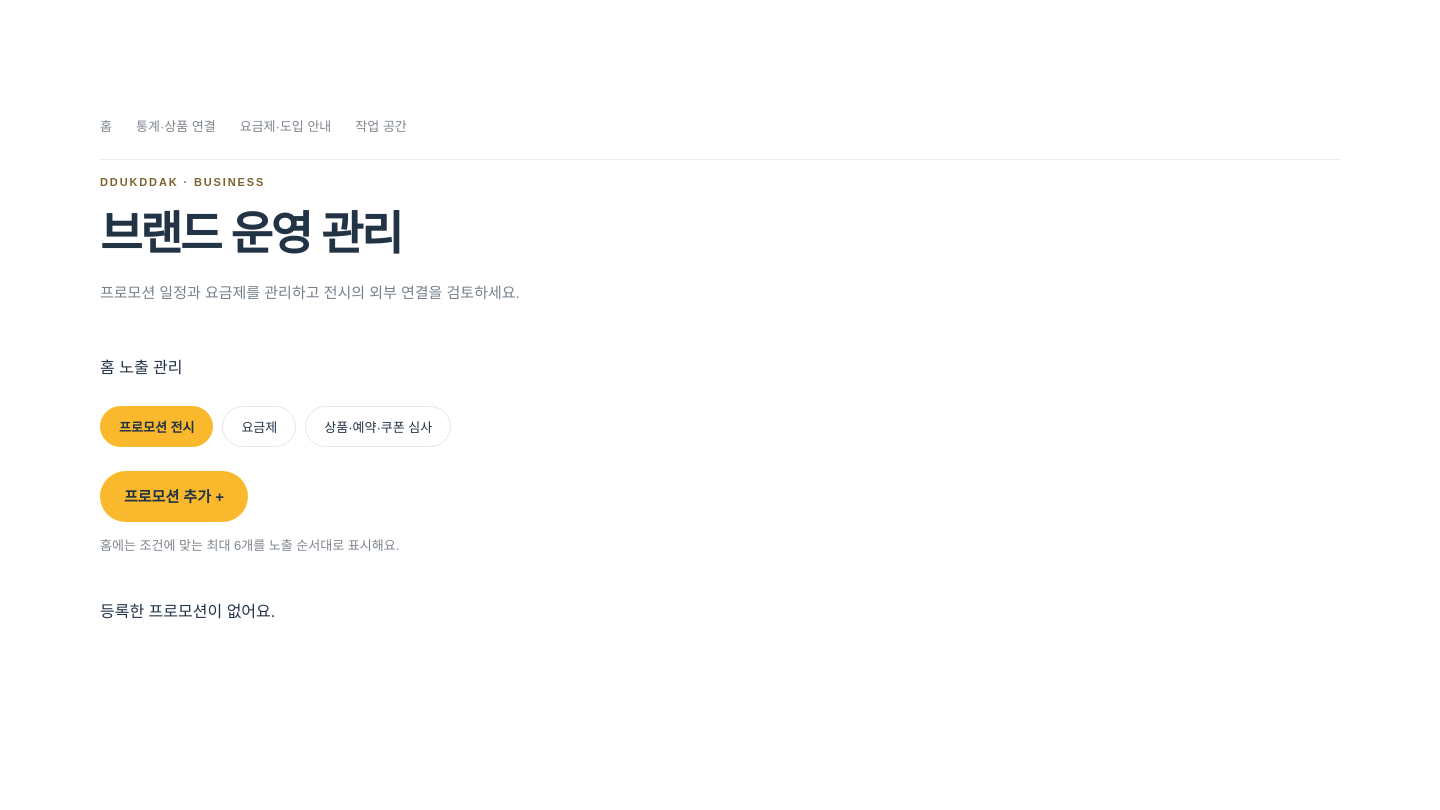
offer review carries snapshot revision and displays conflict instead of false approval
What coordinates should you click on to do the following:
click the button "상품·예약·쿠폰 심사"
I would click on:
 (378, 426)
Its box is [305,406,451,447].
(page scrolled)
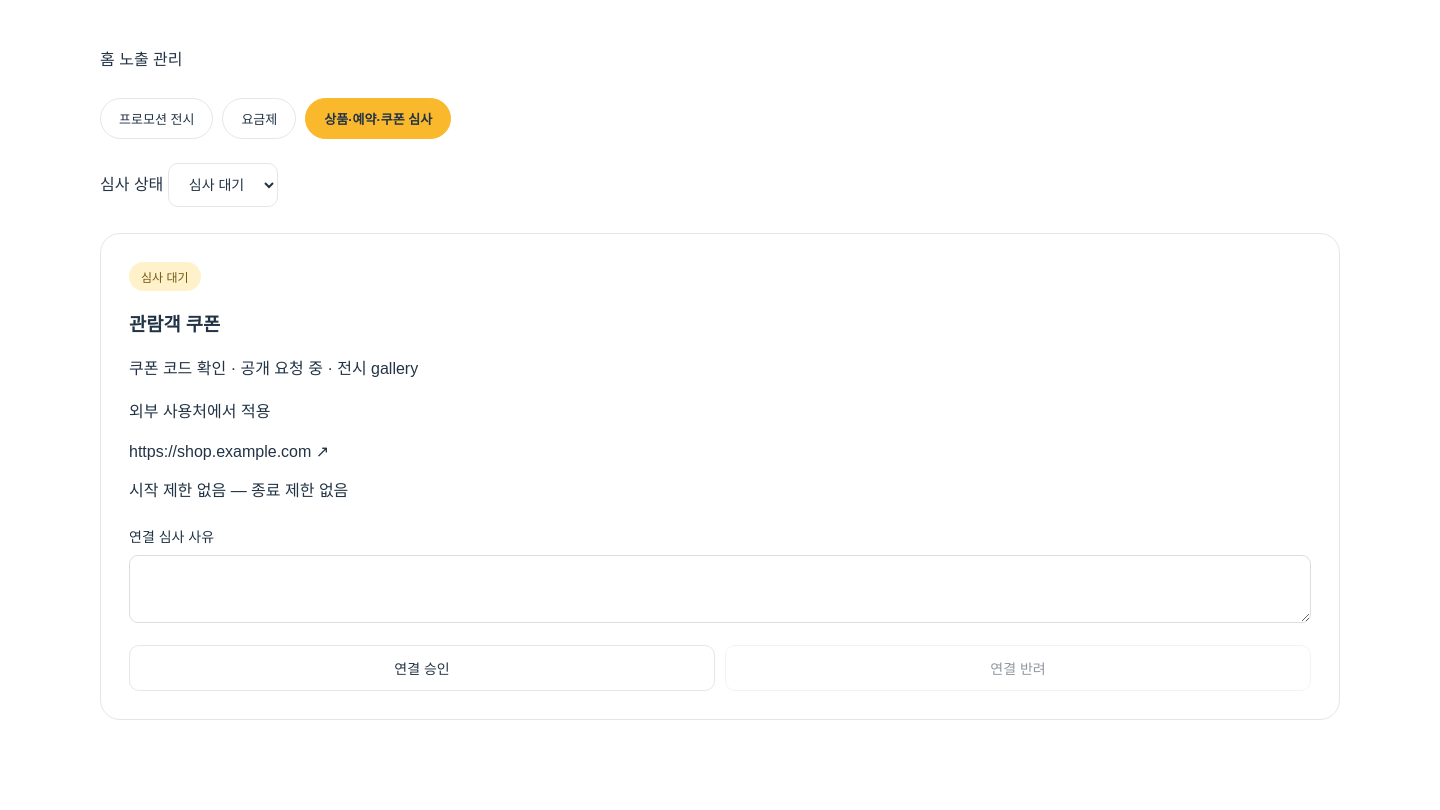
What coordinates should you click on to do the following:
click the button "연결 승인"
I would click on:
 (422, 668)
Its box is [129,645,715,691].
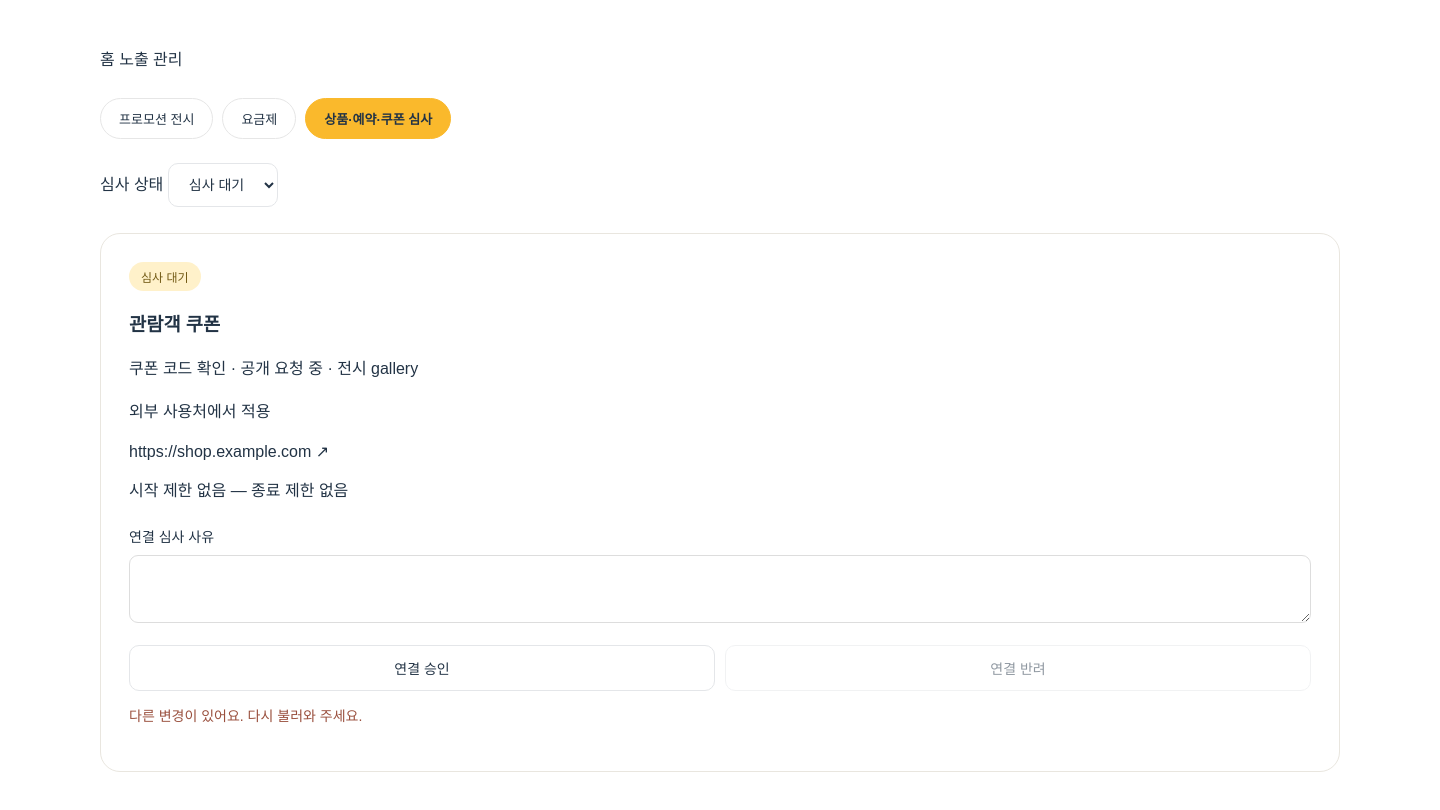
Now the message shows "다른 변경", box [129,708,362,724]
